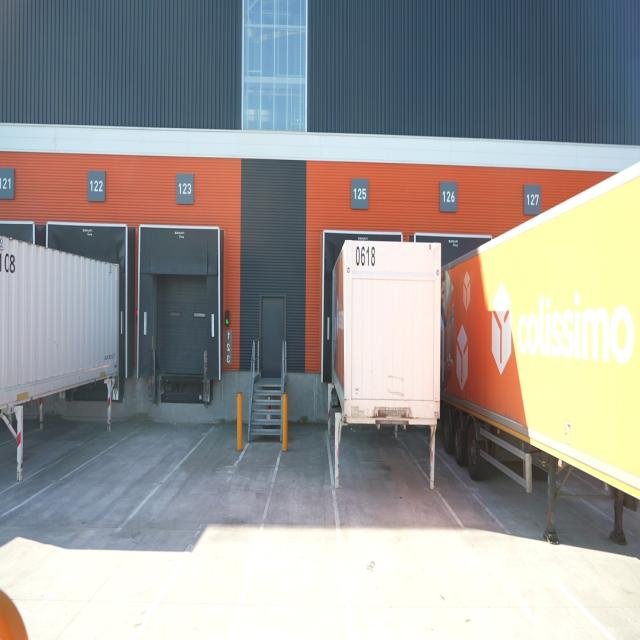Code: (353, 240, 379, 272)
